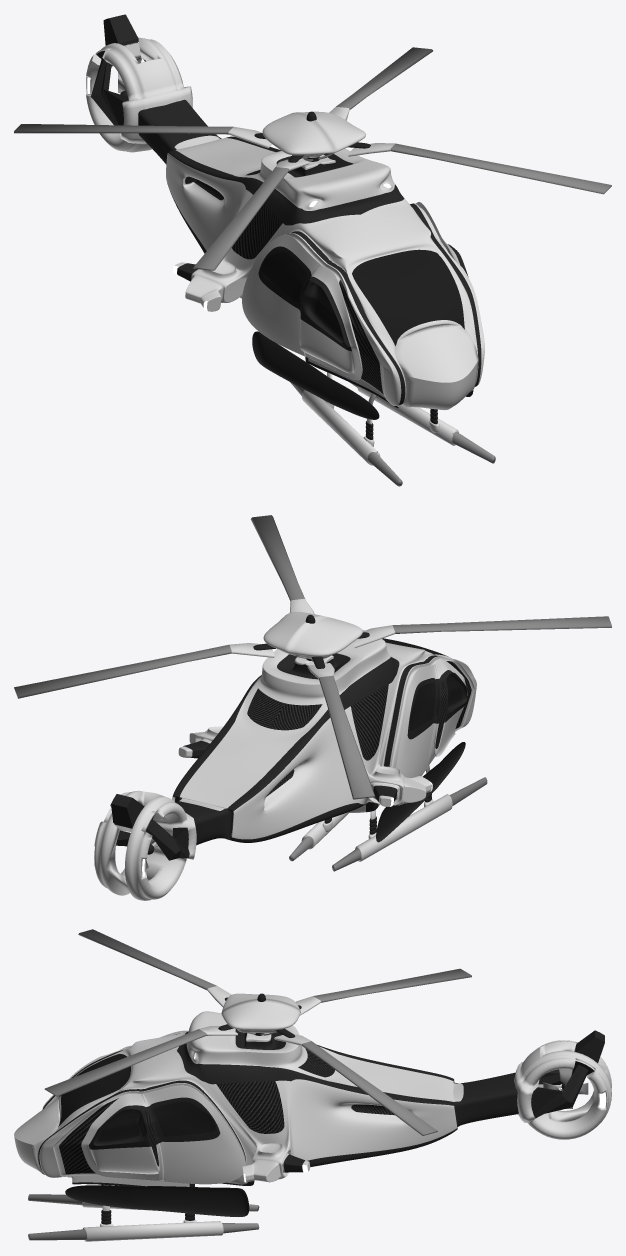
The model's file is animated helicopter-1.glb.
The picture shows the model from 3 angles, top to bottom: view 1: azimuth 30°, elevation 25°; view 2: azimuth 150°, elevation 25°; view 3: azimuth 270°, elevation 25°; orthographic projection. The views are drawn at different scales.
Parts seen in each view (by area): view 1: chasis, main_rotor_, rear stabolizer, doors.001, doors.003, landing_gear, fin; view 2: chasis, main_rotor_, rear stabolizer, landing_gear, doors.001, doors.003, fin; view 3: chasis, main_rotor_, doors.005, rear stabolizer, doors.004, landing_gear, fin.
Part boxes in pixels (box(x1,y1,x2,y2)): chasis: box(138, 99, 484, 419); main_rotor_: box(14, 47, 611, 270); rear stabolizer: box(86, 37, 192, 152); doors.001: box(242, 234, 320, 356); doors.003: box(299, 265, 362, 380); landing_gear: box(290, 372, 495, 486); fin: box(90, 14, 145, 125); chasis: box(172, 612, 476, 845); main_rotor_: box(14, 515, 611, 799); rear stabolizer: box(94, 790, 196, 900); landing_gear: box(289, 765, 487, 871); doors.001: box(396, 664, 438, 777); doors.003: box(428, 658, 467, 765); fin: box(111, 794, 189, 860); chasis: box(14, 993, 518, 1216); main_rotor_: box(44, 929, 471, 1135); doors.005: box(143, 1085, 245, 1184); rear stabolizer: box(514, 1040, 611, 1139); doors.004: box(81, 1093, 159, 1180); landing_gear: box(28, 1184, 259, 1241); fin: box(531, 1030, 604, 1118).
Size of the model in its own units: 6.24 by 3.69 by 8.7.
Materials: 8 (1 with a texture image).
